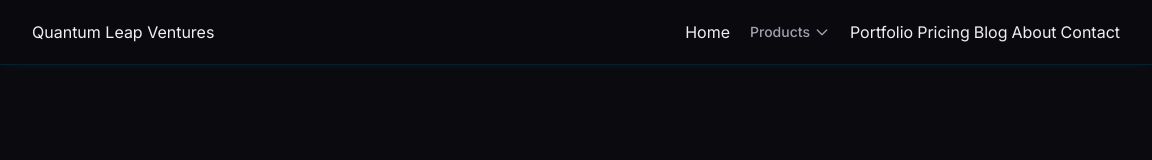
Test: NavigationHeader › shows 'App Builder' as first item in Products dropdown when opened
Click the button "Products" at (790,32), box x1=734 y1=14 x2=846 y2=50
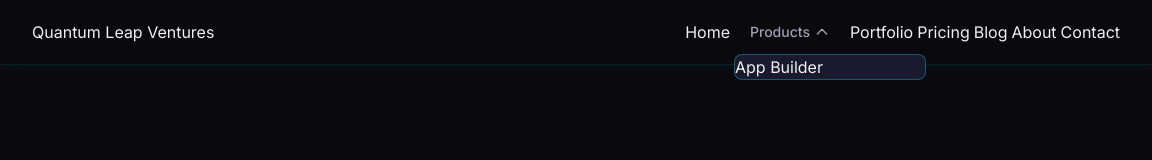
Now the link "App Builder" is shown, box x1=735 y1=57 x2=823 y2=77
